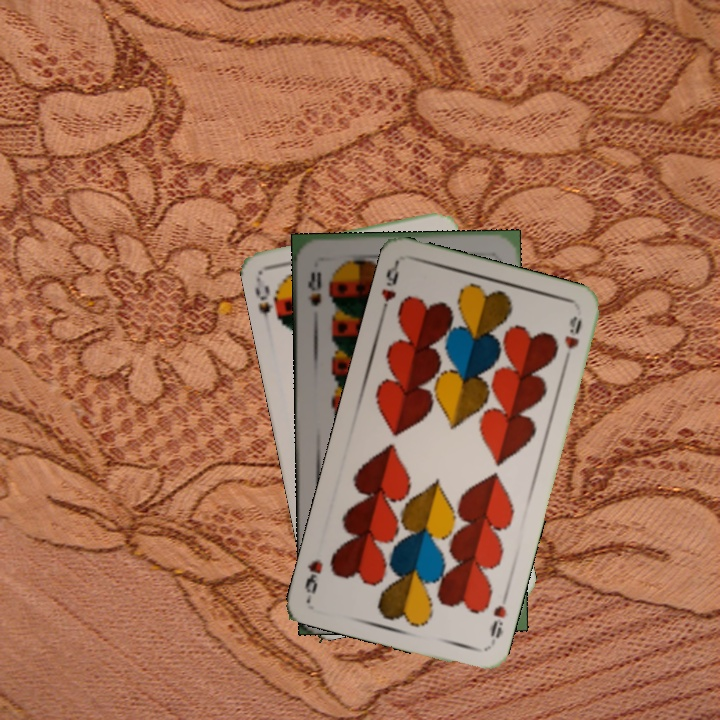H9: (377, 260, 402, 318), (486, 589, 510, 648)
S8: (303, 268, 324, 309)
SO: (250, 272, 285, 330)
